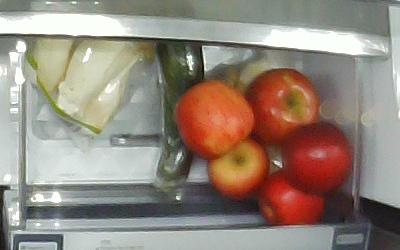apple: (173, 78, 255, 159), (242, 67, 320, 143), (279, 120, 353, 192), (205, 135, 270, 200), (255, 169, 326, 224)
